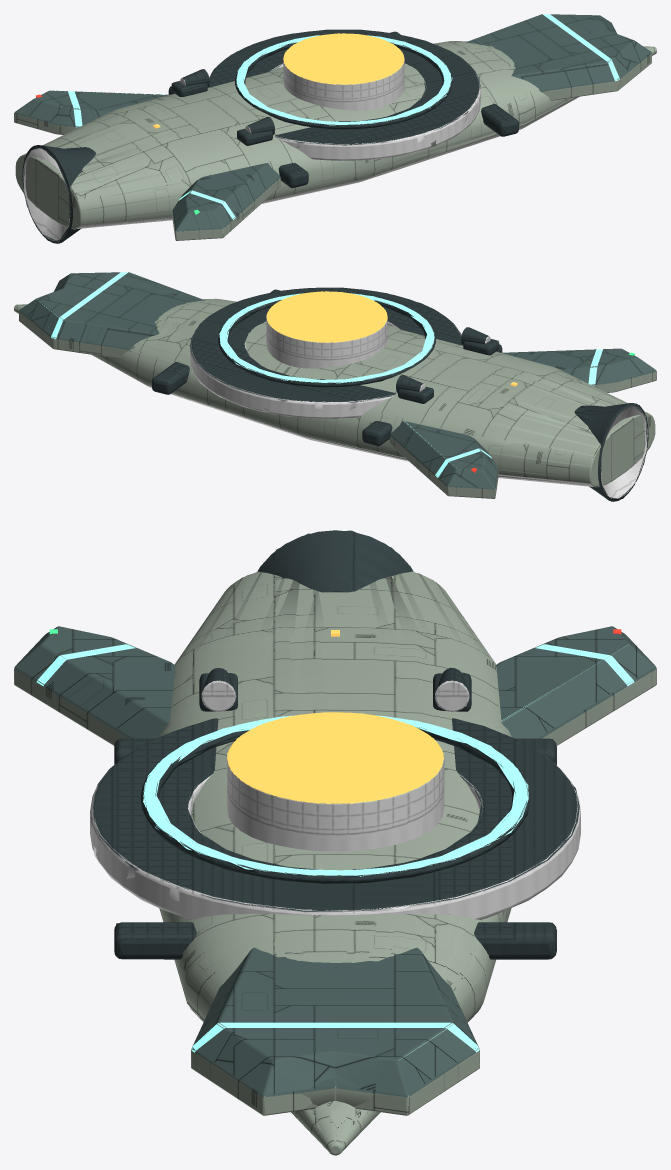
Rendered from swarm_anchor.glb.
3 renders of one model, top to bottom at view 1: azimuth 30°, elevation 25°; view 2: azimuth 150°, elevation 25°; view 3: azimuth 270°, elevation 25°, orthographic. The views are drawn at different scales.
Parts seen in each view (by area): view 1: LOD0_Armor, LOD0_Mechanical, LOD0_MOTION_ANCHOR_VANE_FORE_Hull, LOD0_MechanicalDark, LOD1_Armor, LOD2_Armor, LOD0_Beacon_Amber, LOD0_MOTION_ANCHOR_VANE_STARBOARD_Hull, LOD0_MOTION_ANCHOR_VANE_PORT_Hull, LOD2_MechanicalDark, LOD1_Mechanical, LOD2_Mechanical (+8 smaller); view 2: LOD0_Armor, LOD0_Mechanical, LOD0_MOTION_ANCHOR_VANE_FORE_Hull, LOD1_Armor, LOD0_MechanicalDark, LOD2_Armor, LOD0_Beacon_Amber, LOD0_MOTION_ANCHOR_VANE_PORT_Hull, LOD0_MOTION_ANCHOR_VANE_STARBOARD_Hull, LOD2_MechanicalDark, LOD1_Mechanical, LOD2_Mechanical (+8 smaller); view 3: LOD0_Mechanical, LOD0_Armor, LOD0_MOTION_ANCHOR_VANE_FORE_Hull, LOD0_MechanicalDark, LOD0_Beacon_Amber, LOD1_Armor, LOD2_Armor, LOD0_MOTION_ANCHOR_VANE_STARBOARD_Hull, LOD0_MOTION_ANCHOR_VANE_PORT_Hull, LOD1_Mechanical, LOD2_Mechanical, LOD0_Lights_Cyan (+10 smaller).
Boxes of the visible parts, left/top/right/bottom form: LOD0_Armor: left=15, top=41, right=656, bottom=228; LOD0_Mechanical: left=22, top=29, right=518, bottom=243; LOD0_MOTION_ANCHOR_VANE_FORE_Hull: left=466, top=14, right=651, bottom=91; LOD0_MechanicalDark: left=23, top=53, right=656, bottom=240; LOD1_Armor: left=15, top=41, right=656, bottom=228; LOD2_Armor: left=20, top=41, right=656, bottom=228; LOD0_Beacon_Amber: left=153, top=33, right=404, bottom=128; LOD0_MOTION_ANCHOR_VANE_STARBOARD_Hull: left=173, top=163, right=280, bottom=231; LOD0_MOTION_ANCHOR_VANE_PORT_Hull: left=14, top=90, right=169, bottom=126; LOD2_MechanicalDark: left=23, top=61, right=576, bottom=241; LOD1_Mechanical: left=22, top=29, right=518, bottom=243; LOD2_Mechanical: left=22, top=29, right=518, bottom=243; LOD0_Armor: left=14, top=299, right=655, bottom=486; LOD0_Mechanical: left=152, top=287, right=648, bottom=501; LOD0_MOTION_ANCHOR_VANE_FORE_Hull: left=19, top=272, right=204, bottom=349; LOD1_Armor: left=14, top=298, right=655, bottom=487; LOD0_MechanicalDark: left=14, top=311, right=647, bottom=498; LOD2_Armor: left=14, top=301, right=652, bottom=486; LOD0_Beacon_Amber: left=266, top=291, right=517, bottom=386; LOD0_MOTION_ANCHOR_VANE_PORT_Hull: left=390, top=421, right=497, bottom=489; LOD0_MOTION_ANCHOR_VANE_STARBOARD_Hull: left=501, top=348, right=656, bottom=384; LOD2_MechanicalDark: left=191, top=315, right=647, bottom=498; LOD1_Mechanical: left=152, top=287, right=648, bottom=501; LOD2_Mechanical: left=152, top=287, right=648, bottom=501; LOD0_Mechanical: left=92, top=530, right=578, bottom=959; LOD0_Armor: left=159, top=571, right=511, bottom=1155; LOD0_MOTION_ANCHOR_VANE_FORE_Hull: left=193, top=947, right=477, bottom=1115; LOD0_MechanicalDark: left=90, top=680, right=580, bottom=1154; LOD0_Beacon_Amber: left=227, top=630, right=443, bottom=804; LOD1_Armor: left=160, top=572, right=510, bottom=1155; LOD2_Armor: left=159, top=572, right=511, bottom=1155; LOD0_MOTION_ANCHOR_VANE_STARBOARD_Hull: left=14, top=626, right=175, bottom=738; LOD0_MOTION_ANCHOR_VANE_PORT_Hull: left=496, top=626, right=656, bottom=738; LOD1_Mechanical: left=93, top=531, right=577, bottom=959; LOD2_Mechanical: left=93, top=530, right=579, bottom=959; LOD0_Lights_Cyan: left=143, top=716, right=527, bottom=875.
Size of what is drawn, in the model's own units: 15.62 by 2.69 by 7.99.
Materials: 9 (4 with a texture image).
